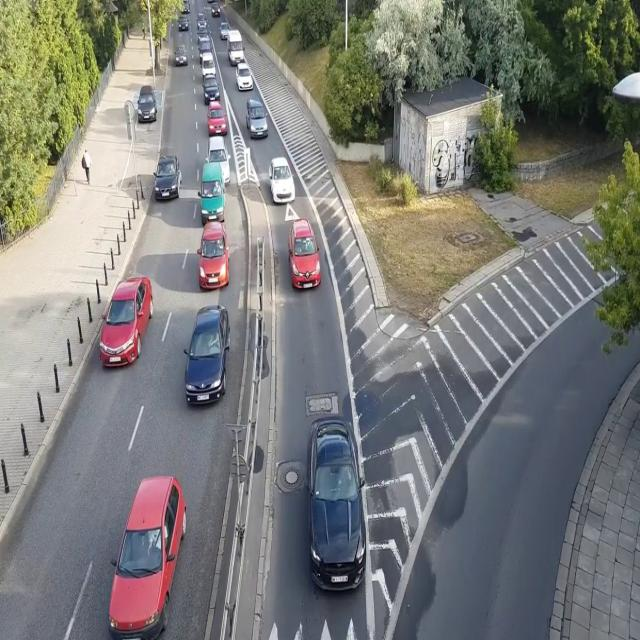car: (107, 477, 187, 640), (303, 417, 368, 593), (100, 274, 153, 369), (182, 304, 230, 407), (288, 216, 322, 288), (197, 221, 230, 290), (205, 135, 231, 187), (153, 156, 182, 202), (269, 158, 296, 204), (206, 102, 228, 137), (137, 86, 157, 122), (235, 63, 253, 91), (203, 76, 220, 103), (174, 44, 188, 66), (197, 26, 210, 44), (220, 22, 232, 40), (196, 12, 208, 30), (177, 15, 189, 31), (211, 2, 221, 18), (180, 0, 190, 13)
van: (198, 163, 226, 224), (246, 96, 268, 140), (227, 30, 245, 66), (200, 53, 217, 81), (198, 38, 214, 66)
